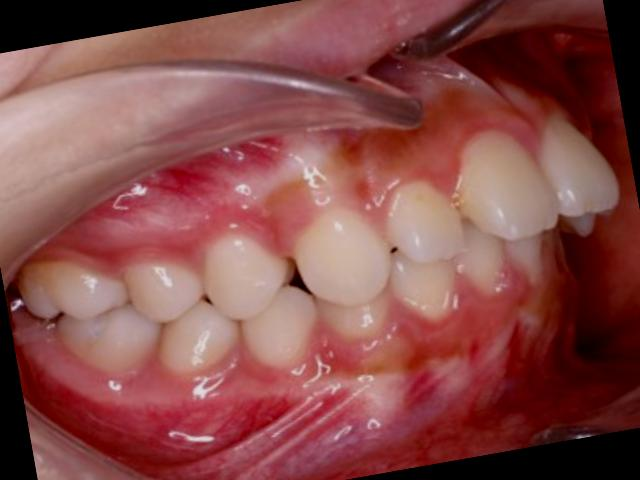canine class II 1/2: (225, 199, 412, 380)
canine class III 1/2: (8, 242, 165, 412)
